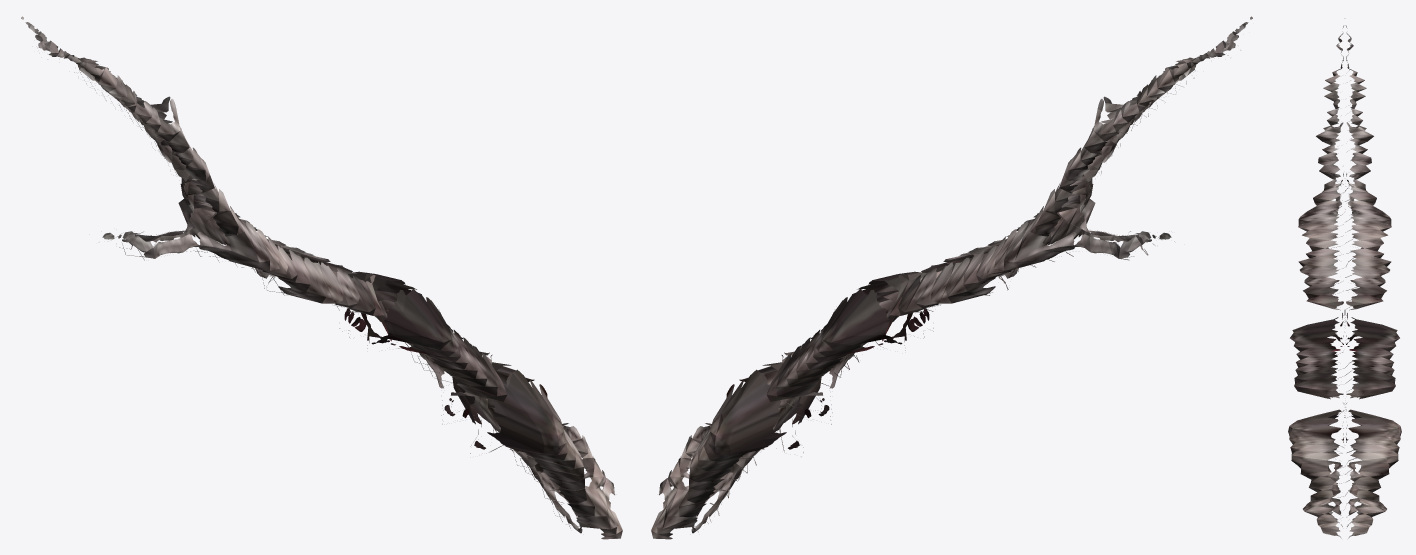
File: prop_branch.obj
3 views of the same model, side by side, from view 1: azimuth 30°, elevation 25°; view 2: azimuth 150°, elevation 25°; view 3: azimuth 270°, elevation 25° (orthographic). The views are drawn at different scales.
Parts seen in each view (by area): view 1: prop_branch; view 2: prop_branch; view 3: prop_branch.
Part boxes in pixels (box(x1,y1,x2,y2)): prop_branch: box(21, 16, 622, 539); prop_branch: box(651, 16, 1252, 539); prop_branch: box(1288, 18, 1401, 538).
Bounding box in the file's own units: 1.34 × 1.4 × 0.3938.
Materials: 1 (1 with a texture image).
